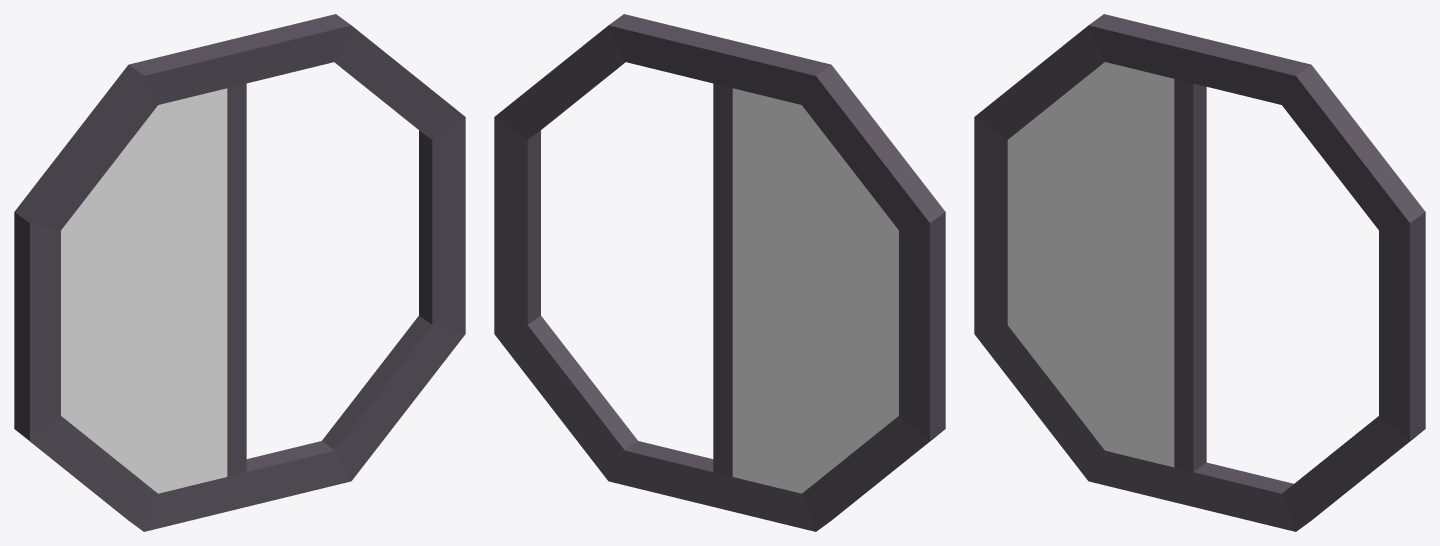
File: Obstacle01.fbx
3 views of the same model, side by side, from view 1: azimuth 30°, elevation 25°; view 2: azimuth 150°, elevation 25°; view 3: azimuth 330°, elevation 25° (orthographic).
Parts seen in each view (by area): view 1: Obstacle01; view 2: Obstacle01; view 3: Obstacle01.
Part boxes in pixels (bbox=[...]): Obstacle01: bbox=[14, 14, 465, 531]; Obstacle01: bbox=[494, 14, 945, 531]; Obstacle01: bbox=[974, 14, 1425, 531].
Size of the model in its own units: 49.27 by 49.27 by 3.05.
